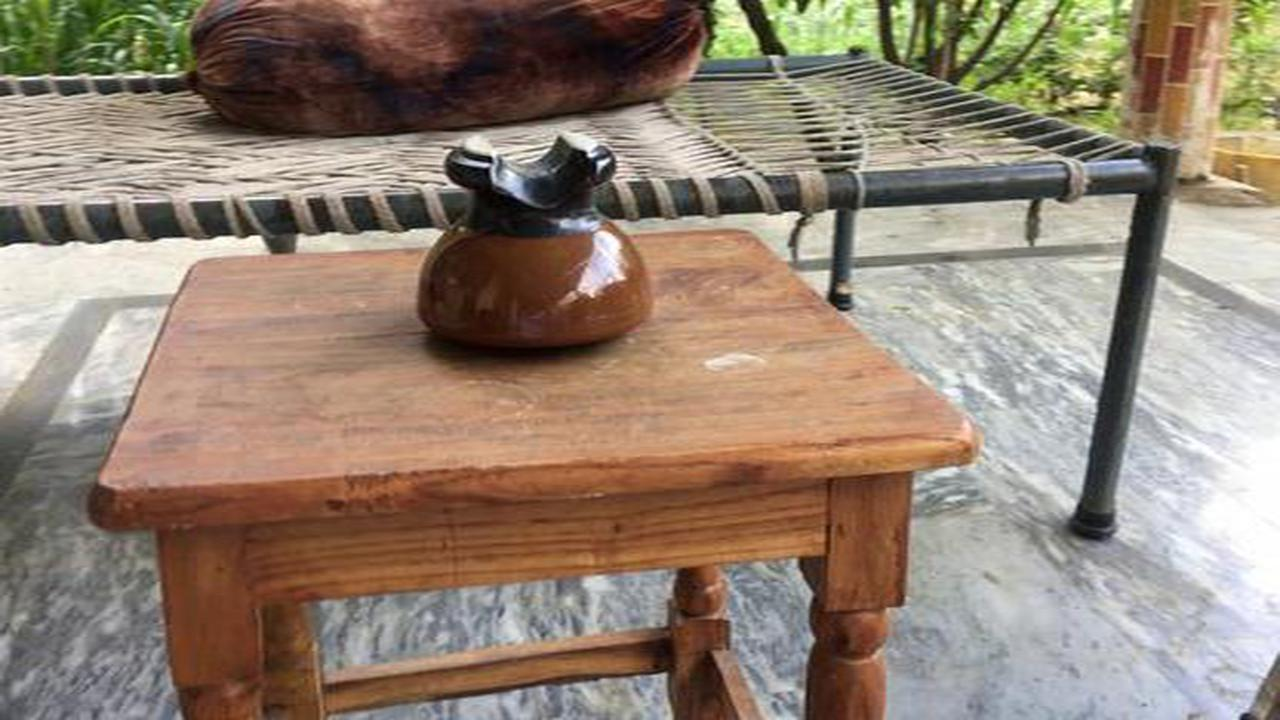insulator_pin: (391, 122, 684, 371)
